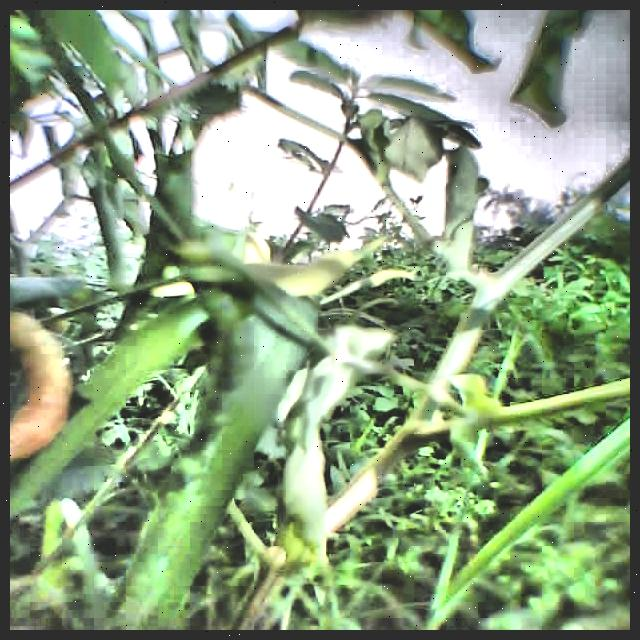Cabai: (10, 298, 95, 471)
